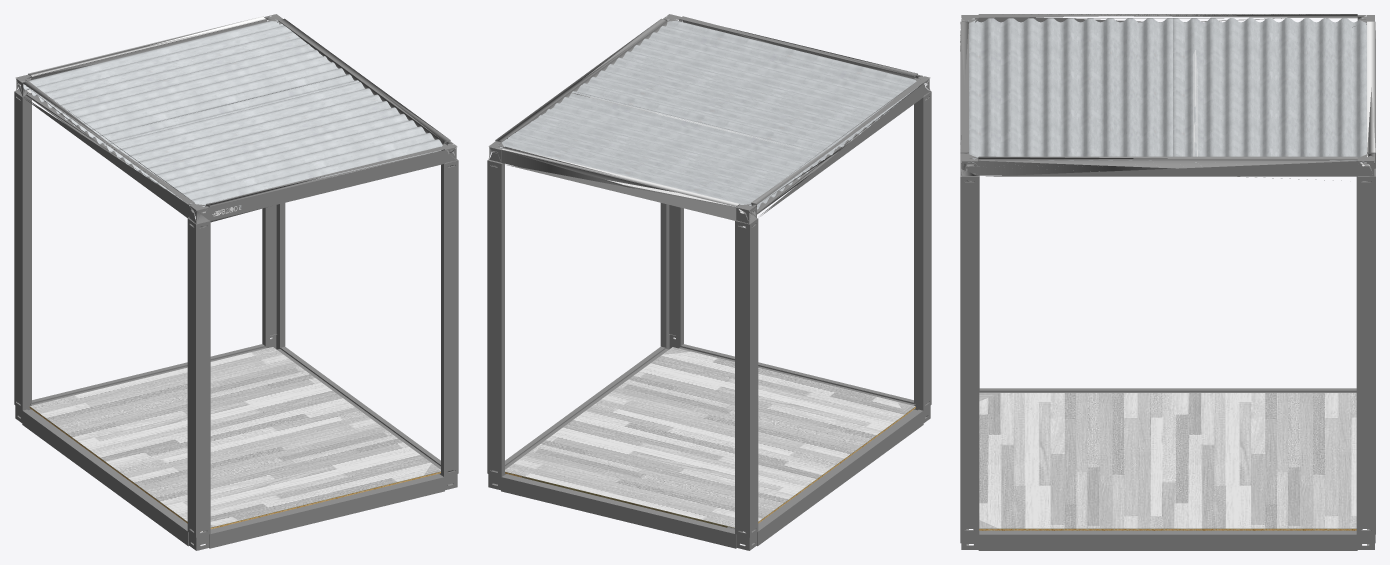
File: skeleton.gltf
3 views of the same model, side by side, from view 1: azimuth 30°, elevation 25°; view 2: azimuth 150°, elevation 25°; view 3: azimuth 270°, elevation 25° (orthographic). The views are drawn at different scales.
Parts seen in each view (by area): view 1: kasa; view 2: kasa; view 3: kasa.
Boxes of the visible parts, x1,y1,x2,y2 form: kasa: (14,14,458,550); kasa: (487,14,931,550); kasa: (960,14,1375,550).
Bounding box in the file's own units: 200 × 249 × 240.
6 materials, 4 textured.
